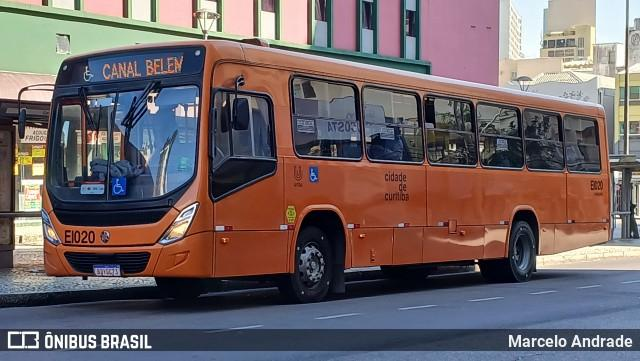CANAL BELEM: (98, 53, 188, 81)
